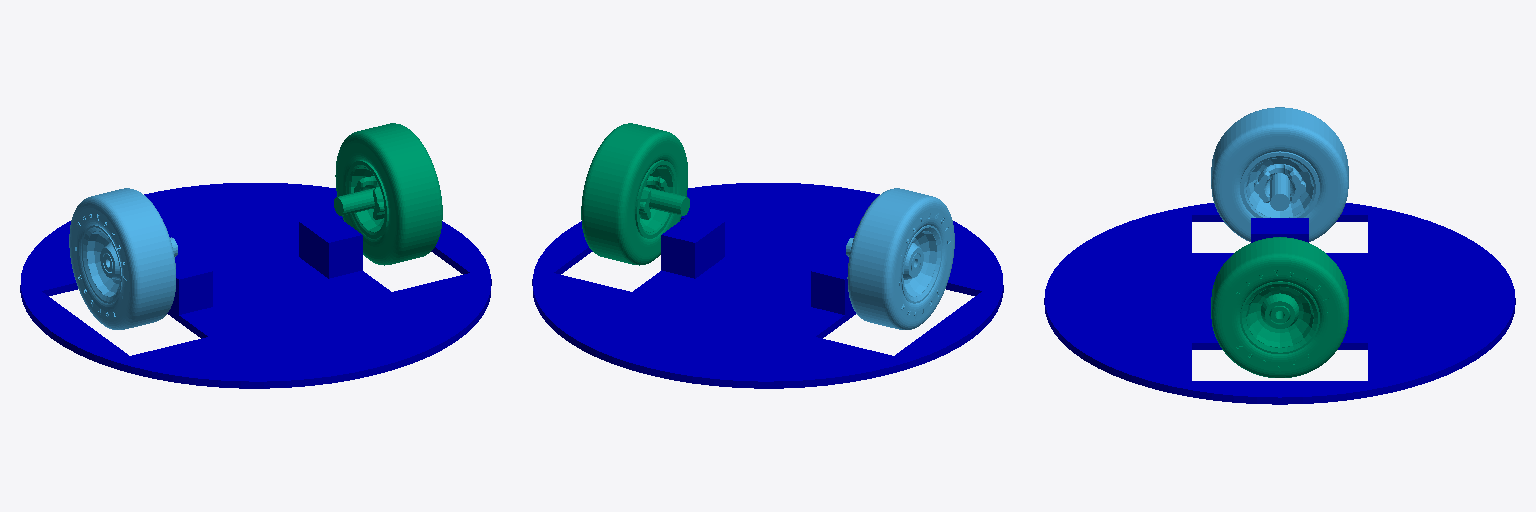
The robot description file, URDF, robot "robobot":
<?xml version="1.0"?>

<robot name="robobot">
    

    <material name="blue">
        <color rgba="0 0 0.8 1"/>
    </material>
     <material name="green">
        <color rgba="0 0.8 0 1"/>
    </material>


    <link name="base_link">
        <visual>
            <origin xyz="0.0 0.0 0" rpy="0.0 0.0 0.0"/>
            <geometry>
                <mesh filename="package://robobot/urdf/board.stl"  scale="0.1 0.1 0.1"/>
            </geometry>
            <material name="blue"/>   
        </visual>
        
    </link>









<joint name="left_wheel_joint" type="continuous">
    <parent link="base_link"/>
    <child link="left_wheel"/>
    <origin xyz="-0.35 0 0.075" rpy="0 0 0"/>
    <axis xyz="1 0 0"/>
</joint>

    <link name="left_wheel">
        <visual>
           <origin xyz="0 0 -0.075" rpy="0 0 1.57"/>
           <geometry>
               <mesh filename="package://robobot/urdf/wheel1.stl" scale="0.1 0.1 0.1"/>
           </geometry> 
           
        </visual>
    </link>




<joint name="right_wheel_joint" type="continuous">
    <parent link="base_link"/>
    <child link="right_wheel"/>
    <origin xyz="0.35 0 0.075" rpy="0 0 0"/>
    <axis xyz="1 0 0"/>
</joint>

    <link name="right_wheel">
        <visual>
           <origin xyz="0 0 -0.075" rpy="0 0 -1.57"/>
           <geometry>
               <mesh filename="package://robobot/urdf/wheel1.stl" scale="0.1 0.1 0.1"/>
           </geometry> 
           
        </visual>
    </link>



<link name="base_footprint">
	<visual>
		<origin xyz="0 0 0" rpy="0 0 0" />
		<geometry>
			<cylinder length="0.001" radius="0.010" />
		</geometry>
		<material name="green" />
	</visual>
</link>
<joint name="base_footprint_to_base_link" type="fixed">
	<origin xyz="0 0 0.15" rpy="0 0 0" />
	<parent link="base_footprint" />
	<child link="base_link" />
</joint>

    

</robot>     

--- Render facts (derived) ---
Views: 3 orthographic renders of the robot side by side, from view 1: azimuth 30°, elevation 25°; view 2: azimuth 150°, elevation 25°; view 3: azimuth 270°, elevation 25°.
Model robobot with 4 links and 3 joints (2 continuous, 1 fixed), rooted at base_footprint, posed every joint at zero.
Visible links, largest first — view 1: base_link, left_wheel, right_wheel; view 2: base_link, left_wheel, right_wheel; view 3: base_link, right_wheel, left_wheel.
Boxes of the visible links, bbox=[...] form: base_link: bbox=[20, 183, 491, 388]; left_wheel: bbox=[69, 188, 177, 329]; right_wheel: bbox=[334, 123, 442, 265]; base_link: bbox=[532, 183, 1003, 388]; left_wheel: bbox=[846, 188, 954, 329]; right_wheel: bbox=[581, 123, 689, 265]; base_link: bbox=[1044, 203, 1515, 404]; right_wheel: bbox=[1211, 237, 1348, 377]; left_wheel: bbox=[1211, 107, 1348, 241].
Bounding box of the posed robot: 1.2 × 1.2 × 0.5005 m (x, y, z).
3 mesh visuals loaded from 2 distinct referenced files (2 binary STL).